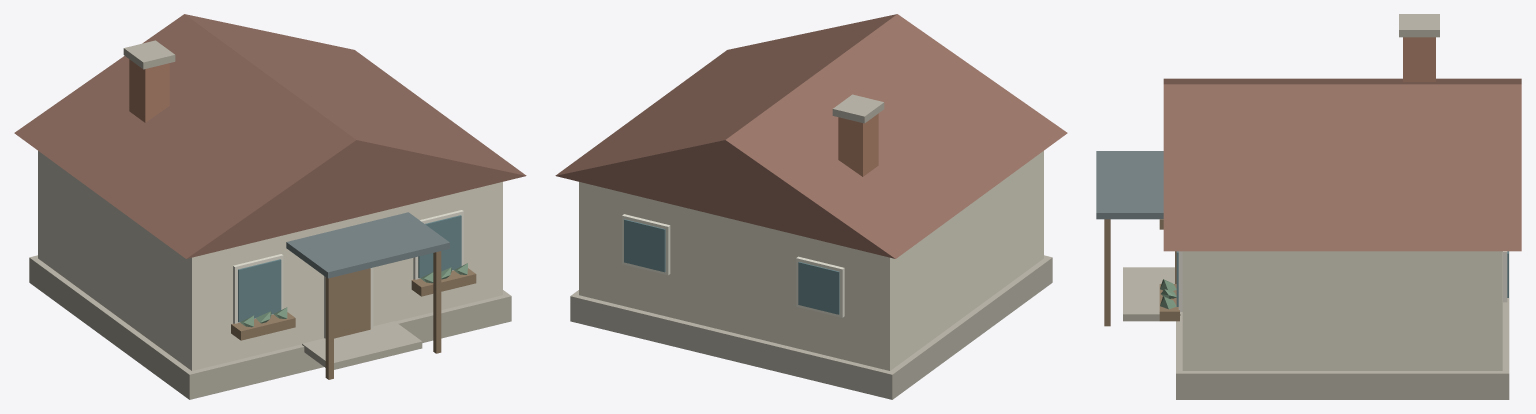
The picture shows the model from 3 angles, left to right: view 1: azimuth 30°, elevation 25°; view 2: azimuth 150°, elevation 25°; view 3: azimuth 270°, elevation 25°; orthographic projection. The views are drawn at different scales.
Size of the model in its own units: 9.2 by 6.29 by 9.57.
